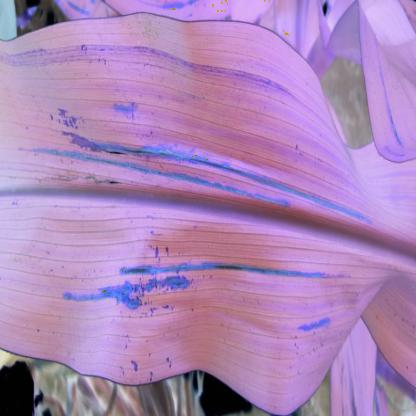corn leaf blight: (2, 19, 414, 415)
